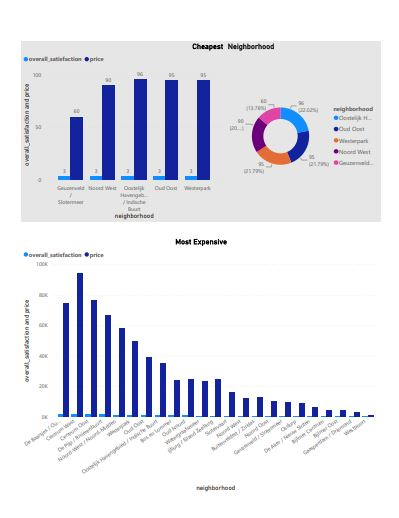

This screenshot's page, from the dashboard's own definition file:
{"tool":"powerbi","page":{"name":"Expensive/Cheapest","canvas":[816,1056],"ordinal":1},"visuals":[{"type":"clusteredColumnChart","title":"Cheapest","fields":{"Category":["Cheapest neighborhood.neighborhood"],"Y":["Sum(Cheapest neighborhood.overall_satisfaction)","Sum(Cheapest neighborhood.price)"]},"box":[0,33.9,463.5,408.4],"z":0},{"type":"clusteredColumnChart","title":"Most Expensive","fields":{"Category":["Most Expensive.neighborhood"],"Y":["Sum(Most Expensive.overall_satisfaction)","Sum(Most Expensive.price)"]},"box":[0,476.2,816.9,579.8],"z":1000},{"type":"donutChart","title":"Neighborhood","fields":{"Category":["Cheapest neighborhood.neighborhood"],"Y":["Sum(Cheapest neighborhood.price)"]},"box":[463.5,33.9,353.4,408.4],"z":2000}]}

Visuals, with their boxes in screenshot pixels (x1, y1, x2, y2), scaled from the page's 816x1056 canvas onto the 399x518 screenshot:
"Cheapest" clusteredColumnChart: [0,17,227,217]
"Most Expensive" clusteredColumnChart: [0,234,398,517]
"Neighborhood" donutChart: [227,17,398,217]
